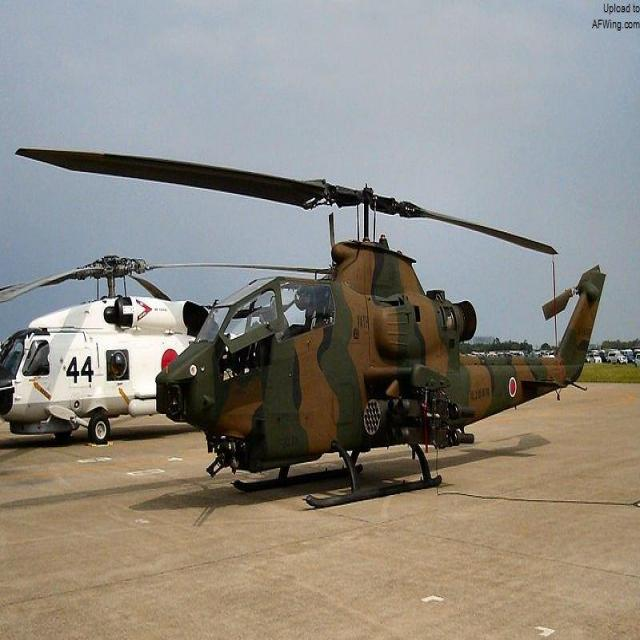MIL_HELO: (21, 127, 620, 504), (0, 247, 244, 462)
